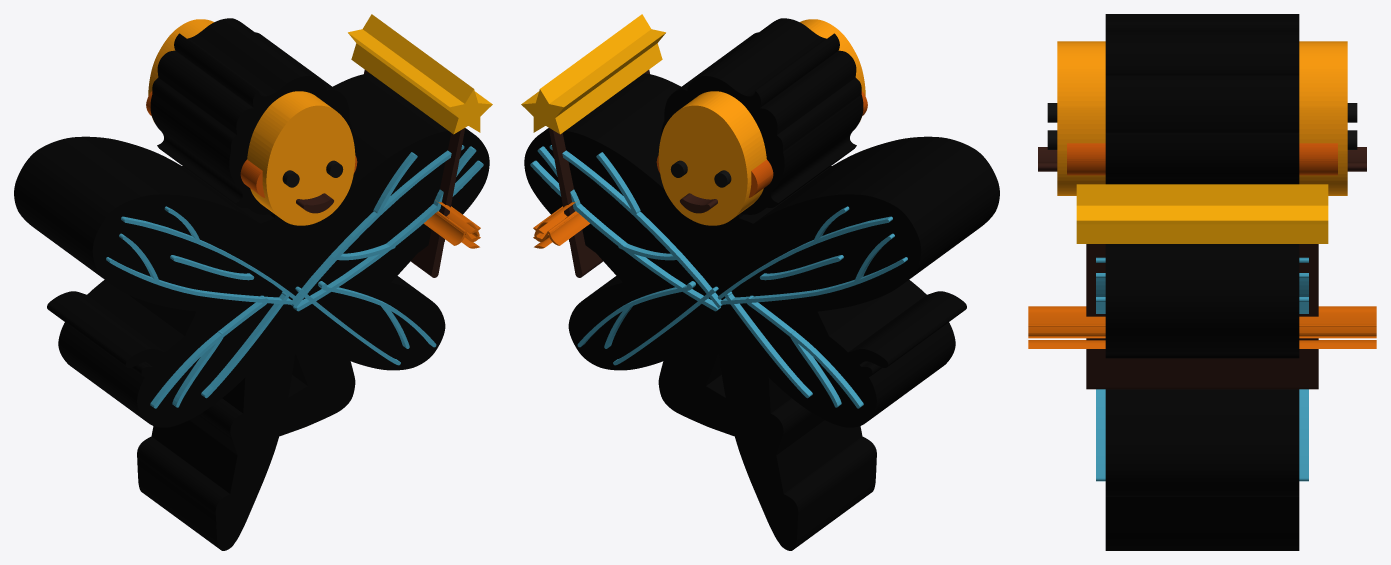
The picture shows the model from 3 angles, left to right: view 1: azimuth 30°, elevation 25°; view 2: azimuth 150°, elevation 25°; view 3: azimuth 270°, elevation 25°; orthographic projection. The views are drawn at different scales.
Parts seen in each view (by area): view 1: U+1F9DA_layer00_obj14, U+1F9DA_layer00_obj18, U+1F9DA_layer00_obj07, U+1F9DA_layer00_obj04, U+1F9DA_layer00_obj09, U+1F9DA_layer05_obj00, U+1F9DA_layer00_obj12, U+1F9DA_layer00_obj08, U+1F9DA_layer03_obj00, U+1F9DA_layer00_obj13, U+1F9DA_layer00_obj06, U+1F9DA_layer00_obj02 (+17 smaller); view 2: U+1F9DA_layer00_obj14, U+1F9DA_layer00_obj07, U+1F9DA_layer00_obj18, U+1F9DA_layer00_obj04, U+1F9DA_layer00_obj09, U+1F9DA_layer05_obj00, U+1F9DA_layer00_obj12, U+1F9DA_layer00_obj13, U+1F9DA_layer00_obj08, U+1F9DA_layer03_obj00, U+1F9DA_layer00_obj06, U+1F9DA_layer00_obj02 (+17 smaller); view 3: U+1F9DA_layer00_obj09, U+1F9DA_layer00_obj18, U+1F9DA_layer00_obj12, U+1F9DA_layer03_obj00, U+1F9DA_layer05_obj00, U+1F9DA_layer00_obj07, U+1F9DA_layer00_obj02, U+1F9DA_layer02_obj04, U+1F9DA_layer08_obj00, U+1F9DA_layer04_obj01, U+1F9DA_layer01_obj11, U+1F9DA_layer08_obj01 (+7 smaller).
Boxes of the visible parts, box(x1,y1,x2,y2) form: U+1F9DA_layer00_obj14: box(14, 136, 305, 312); U+1F9DA_layer00_obj18: box(276, 73, 489, 306); U+1F9DA_layer00_obj07: box(137, 297, 296, 550); U+1F9DA_layer00_obj04: box(58, 280, 294, 427); U+1F9DA_layer00_obj09: box(152, 18, 349, 162); U+1F9DA_layer05_obj00: box(148, 19, 355, 225); U+1F9DA_layer00_obj12: box(288, 276, 445, 370); U+1F9DA_layer00_obj08: box(47, 251, 264, 379); U+1F9DA_layer03_obj00: box(348, 14, 492, 134); U+1F9DA_layer00_obj13: box(182, 166, 360, 354); U+1F9DA_layer00_obj06: box(254, 288, 355, 438); U+1F9DA_layer00_obj02: box(150, 94, 352, 214); U+1F9DA_layer00_obj14: box(708, 136, 999, 312); U+1F9DA_layer00_obj07: box(717, 304, 876, 550); U+1F9DA_layer00_obj18: box(524, 73, 737, 309); U+1F9DA_layer00_obj04: box(719, 280, 955, 427); U+1F9DA_layer00_obj09: box(664, 18, 861, 162); U+1F9DA_layer05_obj00: box(658, 19, 865, 225); U+1F9DA_layer00_obj12: box(568, 276, 726, 370); U+1F9DA_layer00_obj13: box(652, 166, 831, 354); U+1F9DA_layer00_obj08: box(750, 251, 966, 379); U+1F9DA_layer03_obj00: box(521, 14, 665, 134); U+1F9DA_layer00_obj06: box(658, 295, 759, 438); U+1F9DA_layer00_obj02: box(661, 94, 863, 214); U+1F9DA_layer00_obj09: box(1105, 14, 1299, 132); U+1F9DA_layer00_obj18: box(1105, 244, 1299, 353); U+1F9DA_layer00_obj12: box(1105, 389, 1299, 496); U+1F9DA_layer03_obj00: box(1076, 184, 1328, 243); U+1F9DA_layer05_obj00: box(1057, 41, 1347, 195); U+1F9DA_layer00_obj07: box(1105, 497, 1299, 550); U+1F9DA_layer00_obj02: box(1105, 132, 1299, 184); U+1F9DA_layer02_obj04: box(1086, 244, 1318, 389); U+1F9DA_layer08_obj00: box(1028, 306, 1376, 336); U+1F9DA_layer04_obj01: box(1067, 143, 1337, 175); U+1F9DA_layer01_obj11: box(1096, 389, 1308, 481); U+1F9DA_layer08_obj01: box(1028, 340, 1376, 348).
Size of the model in its own units: 0.291 by 0.3191 by 0.18.
